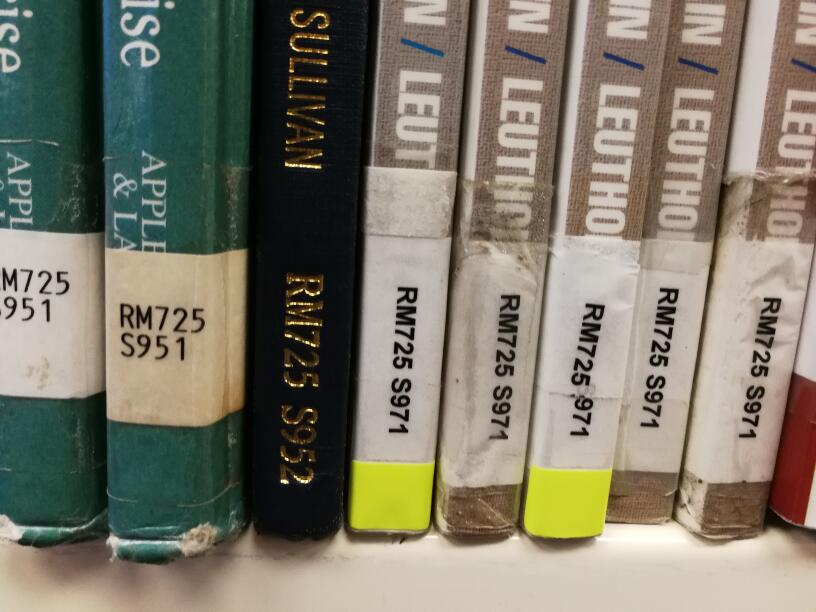booklabel: (275, 268, 328, 490), (734, 295, 784, 442), (636, 282, 682, 430), (564, 297, 608, 439), (115, 300, 209, 364), (386, 281, 421, 435), (487, 289, 522, 442), (0, 263, 72, 323)
